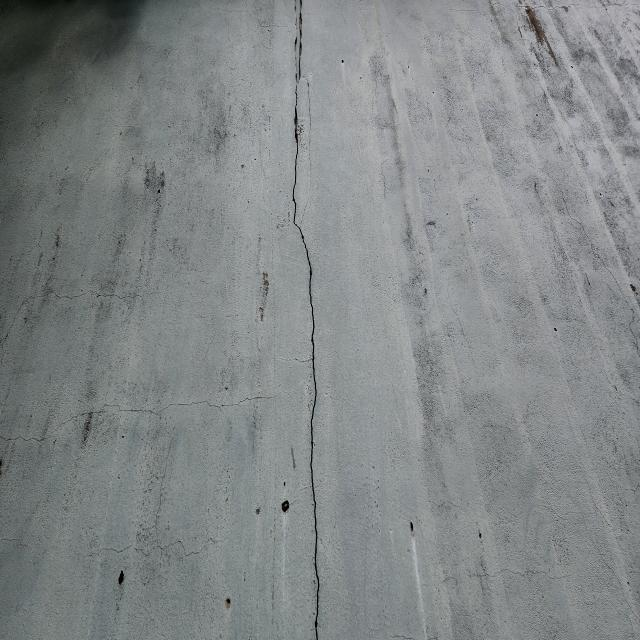SurfaceCrack: (249, 0, 352, 533)
